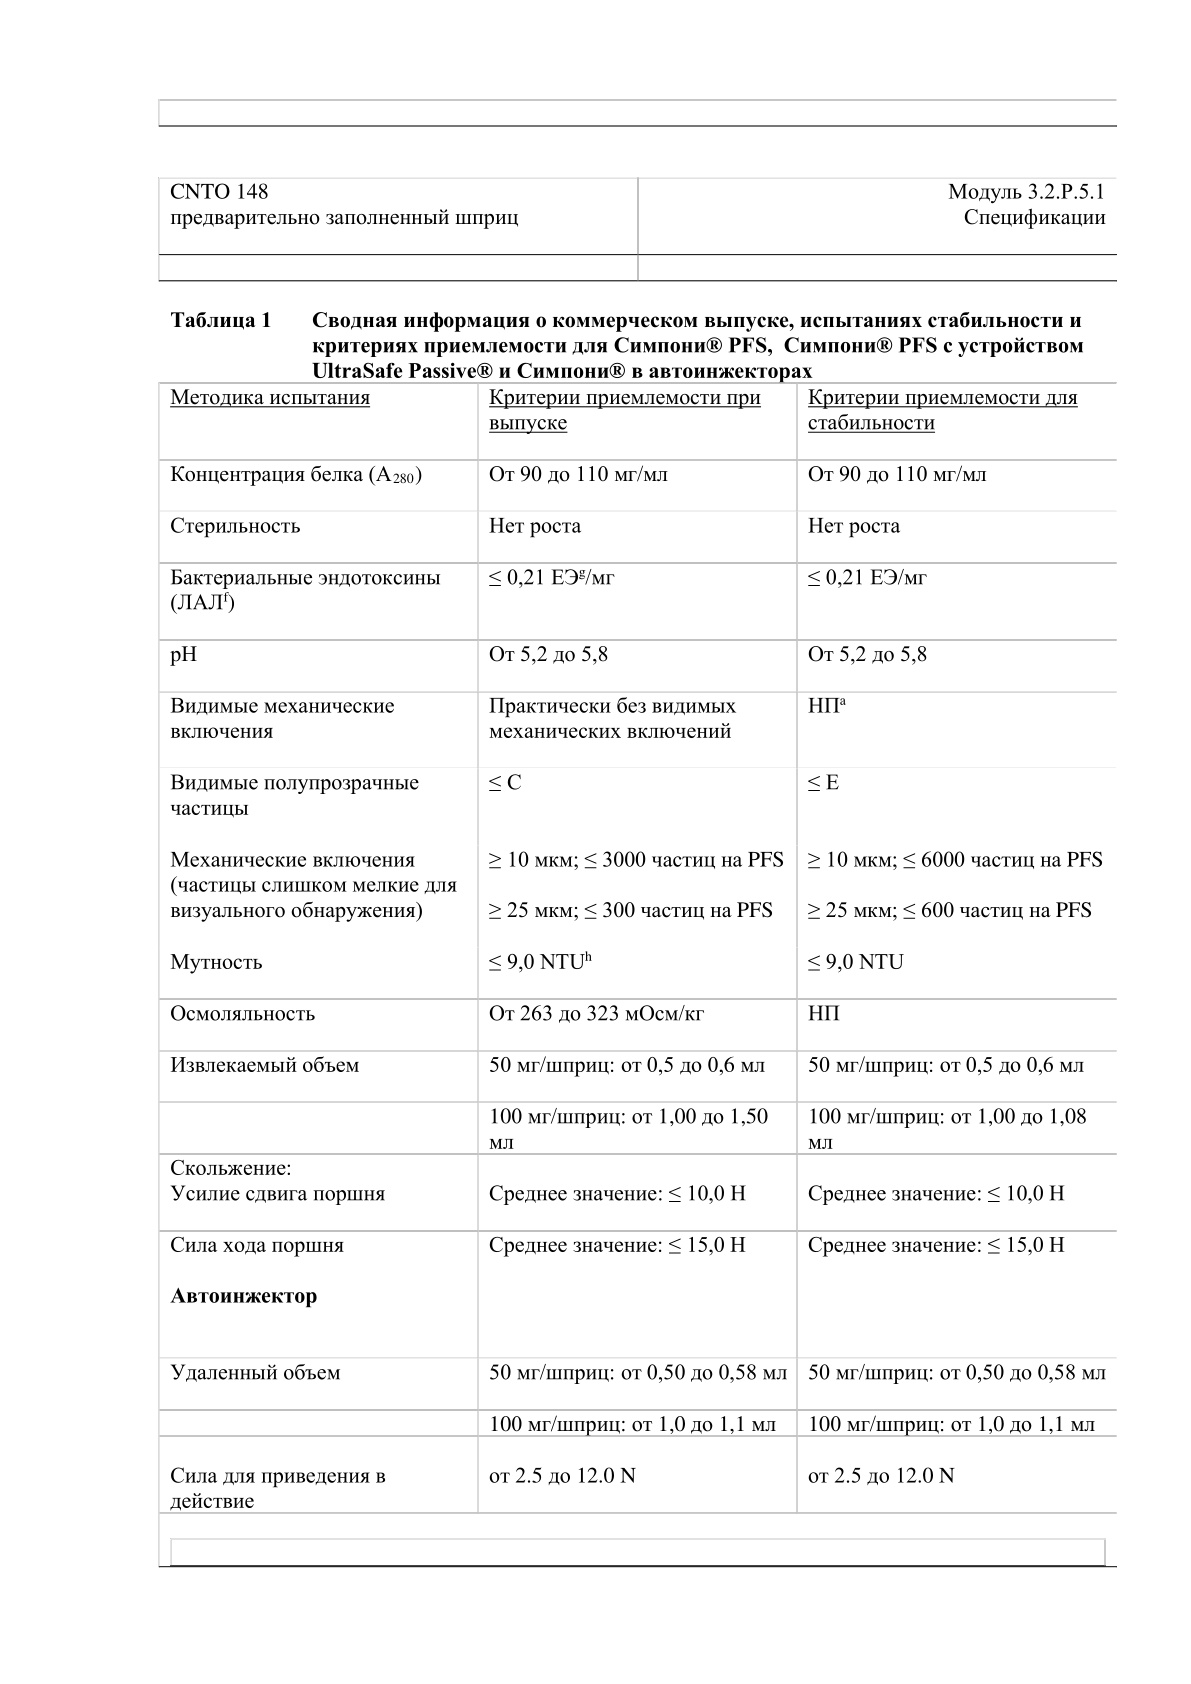partial_lined: (156, 380, 1118, 1514), (156, 173, 1114, 283)
